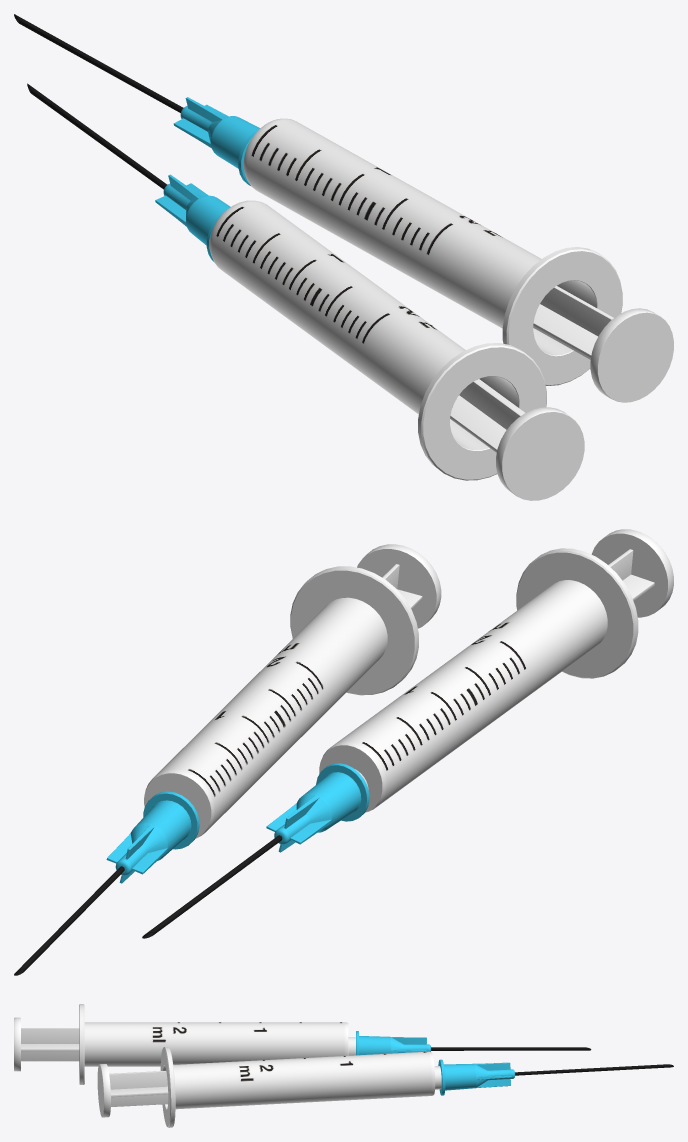
File: spuit_3cc.fbx
3 views of the same model, one above another, from view 1: azimuth 30°, elevation 25°; view 2: azimuth 150°, elevation 25°; view 3: azimuth 270°, elevation 25° (orthographic). The views are drawn at different scales.
Visible parts, largest first — view 1: spuit_2cc:Layer2, spuit_2cc:Layer1; view 2: spuit_2cc:Layer1, spuit_2cc:Layer2; view 3: spuit_2cc:Layer2, spuit_2cc:Layer1.
Part boxes in pixels (left/top/right/bottom): spuit_2cc:Layer2: left=14, top=14, right=673, bottom=402; spuit_2cc:Layer1: left=27, top=83, right=584, bottom=500; spuit_2cc:Layer1: left=142, top=529, right=673, bottom=938; spuit_2cc:Layer2: left=14, top=544, right=441, bottom=975; spuit_2cc:Layer2: left=97, top=1047, right=673, bottom=1127; spuit_2cc:Layer1: left=14, top=1004, right=591, bottom=1084.
Size of the model in its own units: 6.91 by 3.06 by 25.06.
5 materials, 1 textured.
